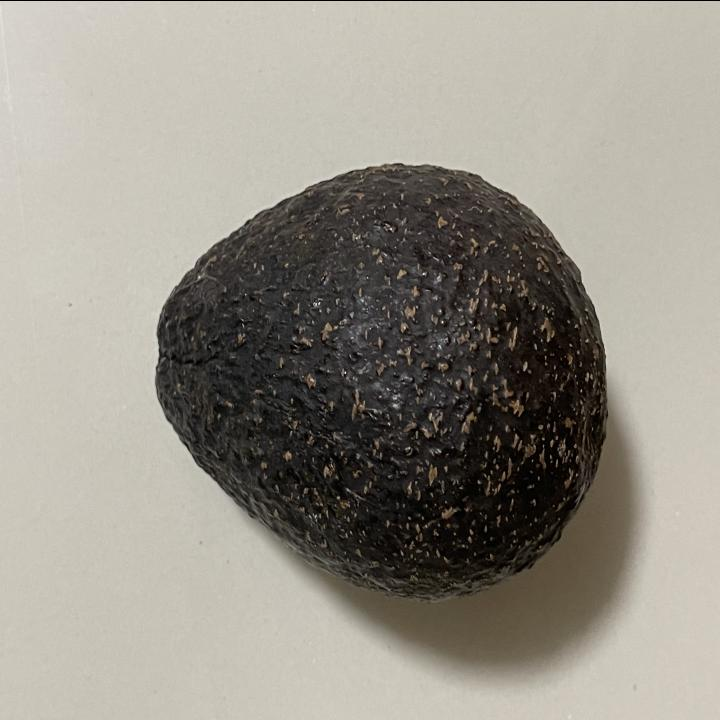Level3: (144, 149, 616, 613)
